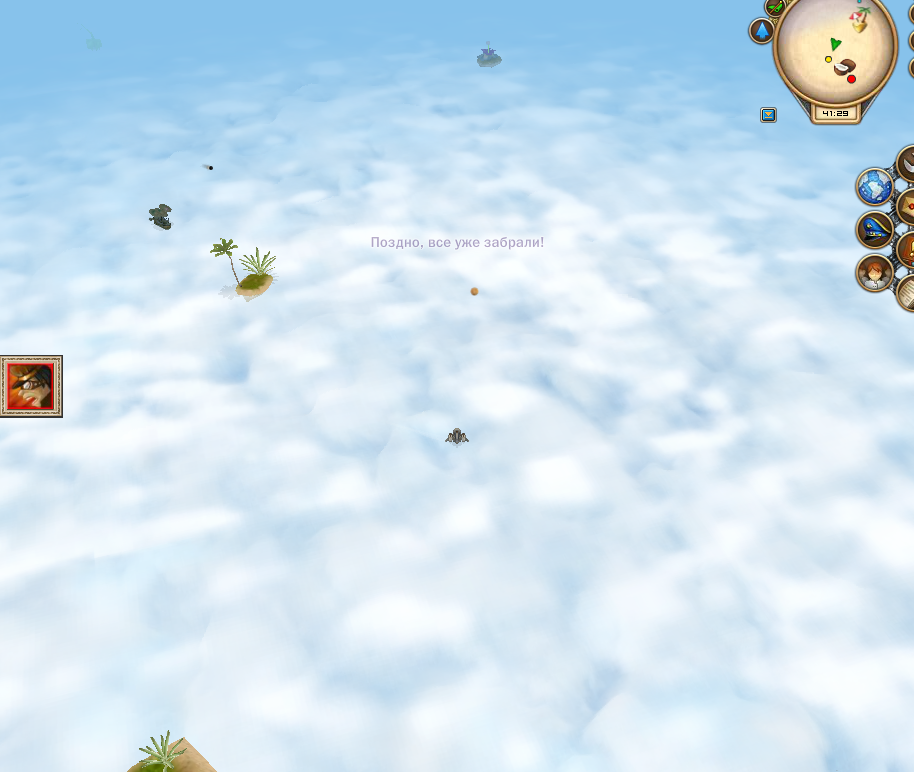coconut: (467, 283, 482, 298)
palm: (209, 236, 281, 303)
